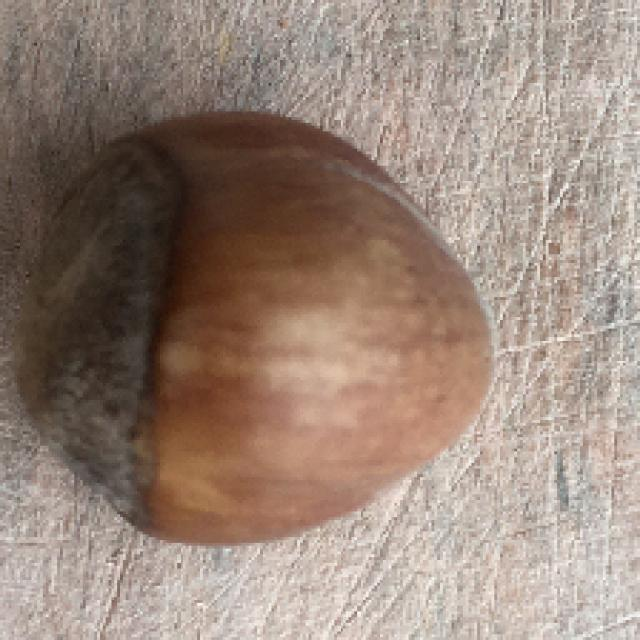qualityHazelnut: (13, 104, 495, 546)
